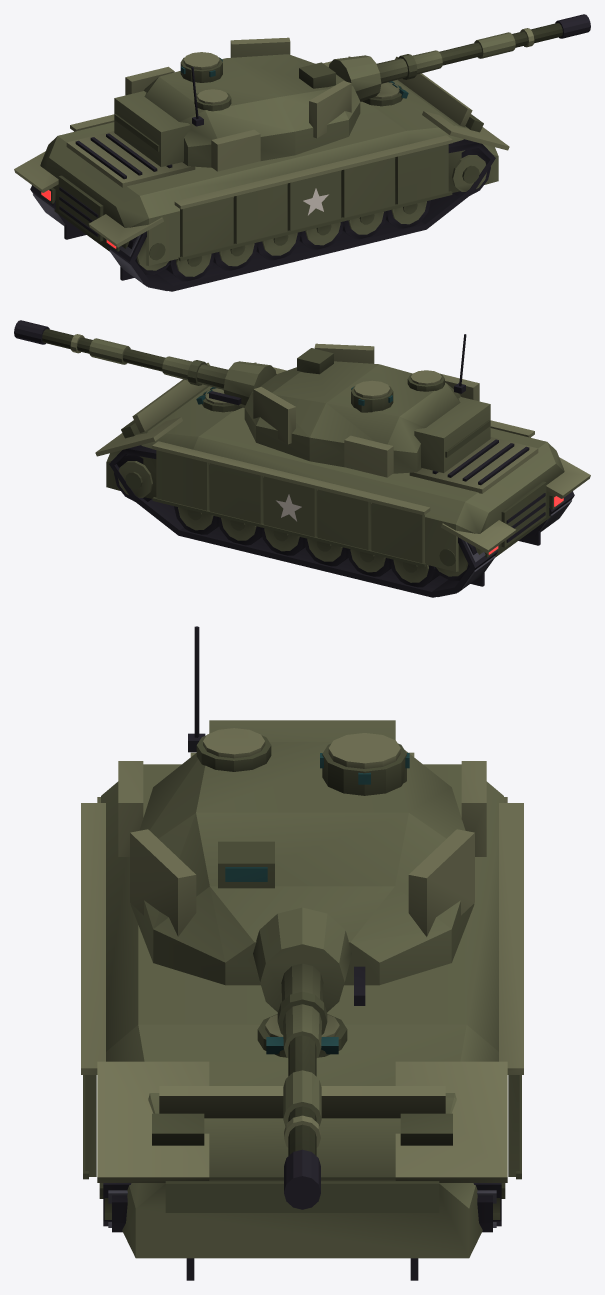
3 renders of one model, top to bottom at view 1: azimuth 30°, elevation 25°; view 2: azimuth 150°, elevation 25°; view 3: azimuth 270°, elevation 25°, orthographic. The views are drawn at different scales.
Parts seen in each view (by area): view 1: body_pal_picketWhite, turret_pal_picketWhite, gun_pal_picketWhite; view 2: body_pal_picketWhite, turret_pal_picketWhite, gun_pal_picketWhite; view 3: body_pal_picketWhite, turret_pal_picketWhite, gun_pal_picketWhite.
Part boxes in pixels (x1,y1,x2,y2): body_pal_picketWhite: [14, 56, 509, 291]; turret_pal_picketWhite: [114, 37, 360, 171]; gun_pal_picketWhite: [329, 14, 590, 101]; body_pal_picketWhite: [95, 362, 590, 597]; turret_pal_picketWhite: [244, 334, 490, 477]; gun_pal_picketWhite: [14, 320, 276, 407]; body_pal_picketWhite: [81, 752, 523, 1280]; turret_pal_picketWhite: [118, 626, 486, 985]; gun_pal_picketWhite: [253, 907, 365, 1209].
Size of the model in its own units: 9.67 by 3.51 by 3.56.
